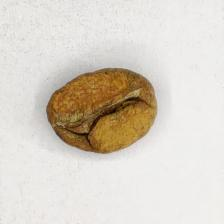NG: (52, 71, 140, 138)
